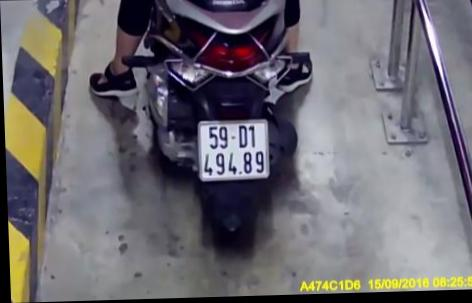LP: (194, 119, 270, 184)
